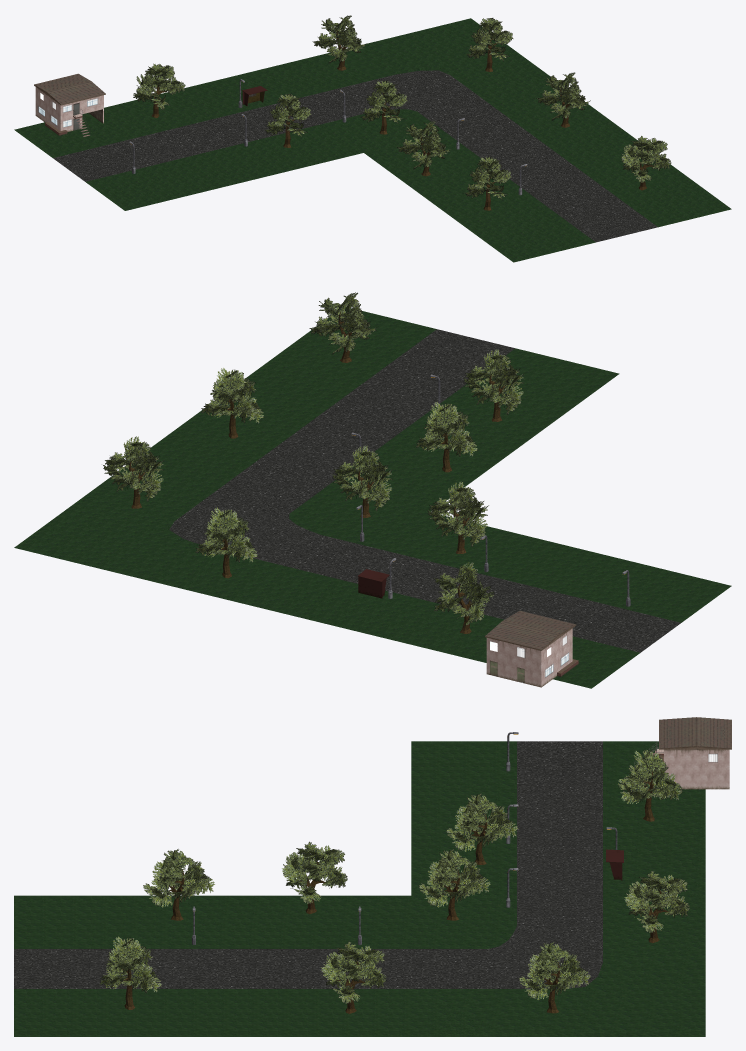
File: forest.glb
3 views of the same model, one above another, from view 1: azimuth 30°, elevation 25°; view 2: azimuth 150°, elevation 25°; view 3: azimuth 270°, elevation 25° (orthographic). The views are drawn at different scales.
Parts seen in each view (by area): view 1: ground; view 2: ground; view 3: ground.
Part boxes in pixels (x1,y1,x2,y2): ground: (14, 15, 731, 262); ground: (14, 292, 731, 688); ground: (14, 717, 731, 1036).
Size of the model in its own units: 35.83 by 4.07 by 36.78.
7 materials, 7 textured.
